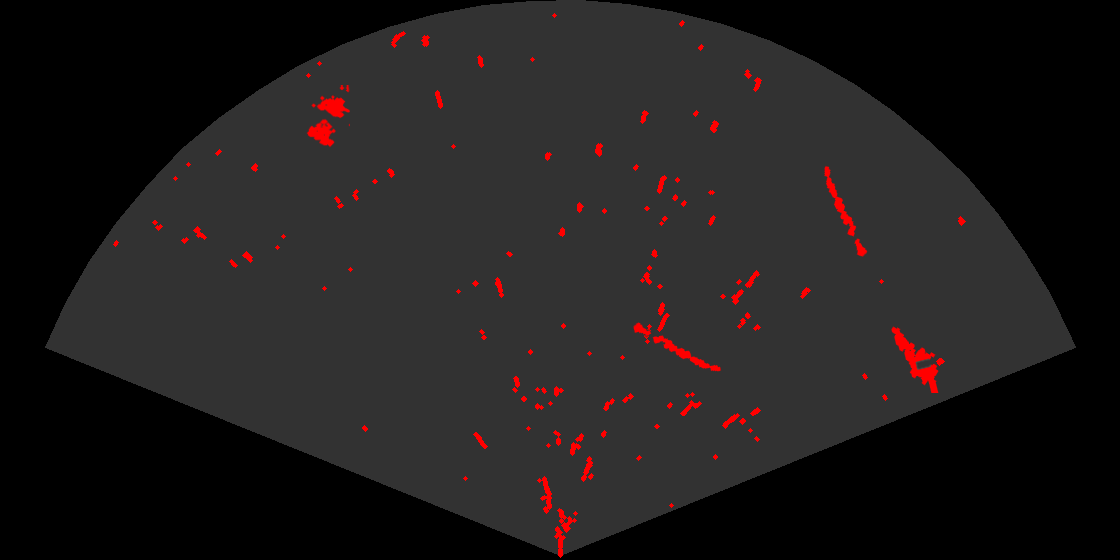cage: (305, 85, 350, 149)
chain: (632, 321, 722, 373), (823, 165, 869, 258)
frogman: (890, 325, 940, 393)
